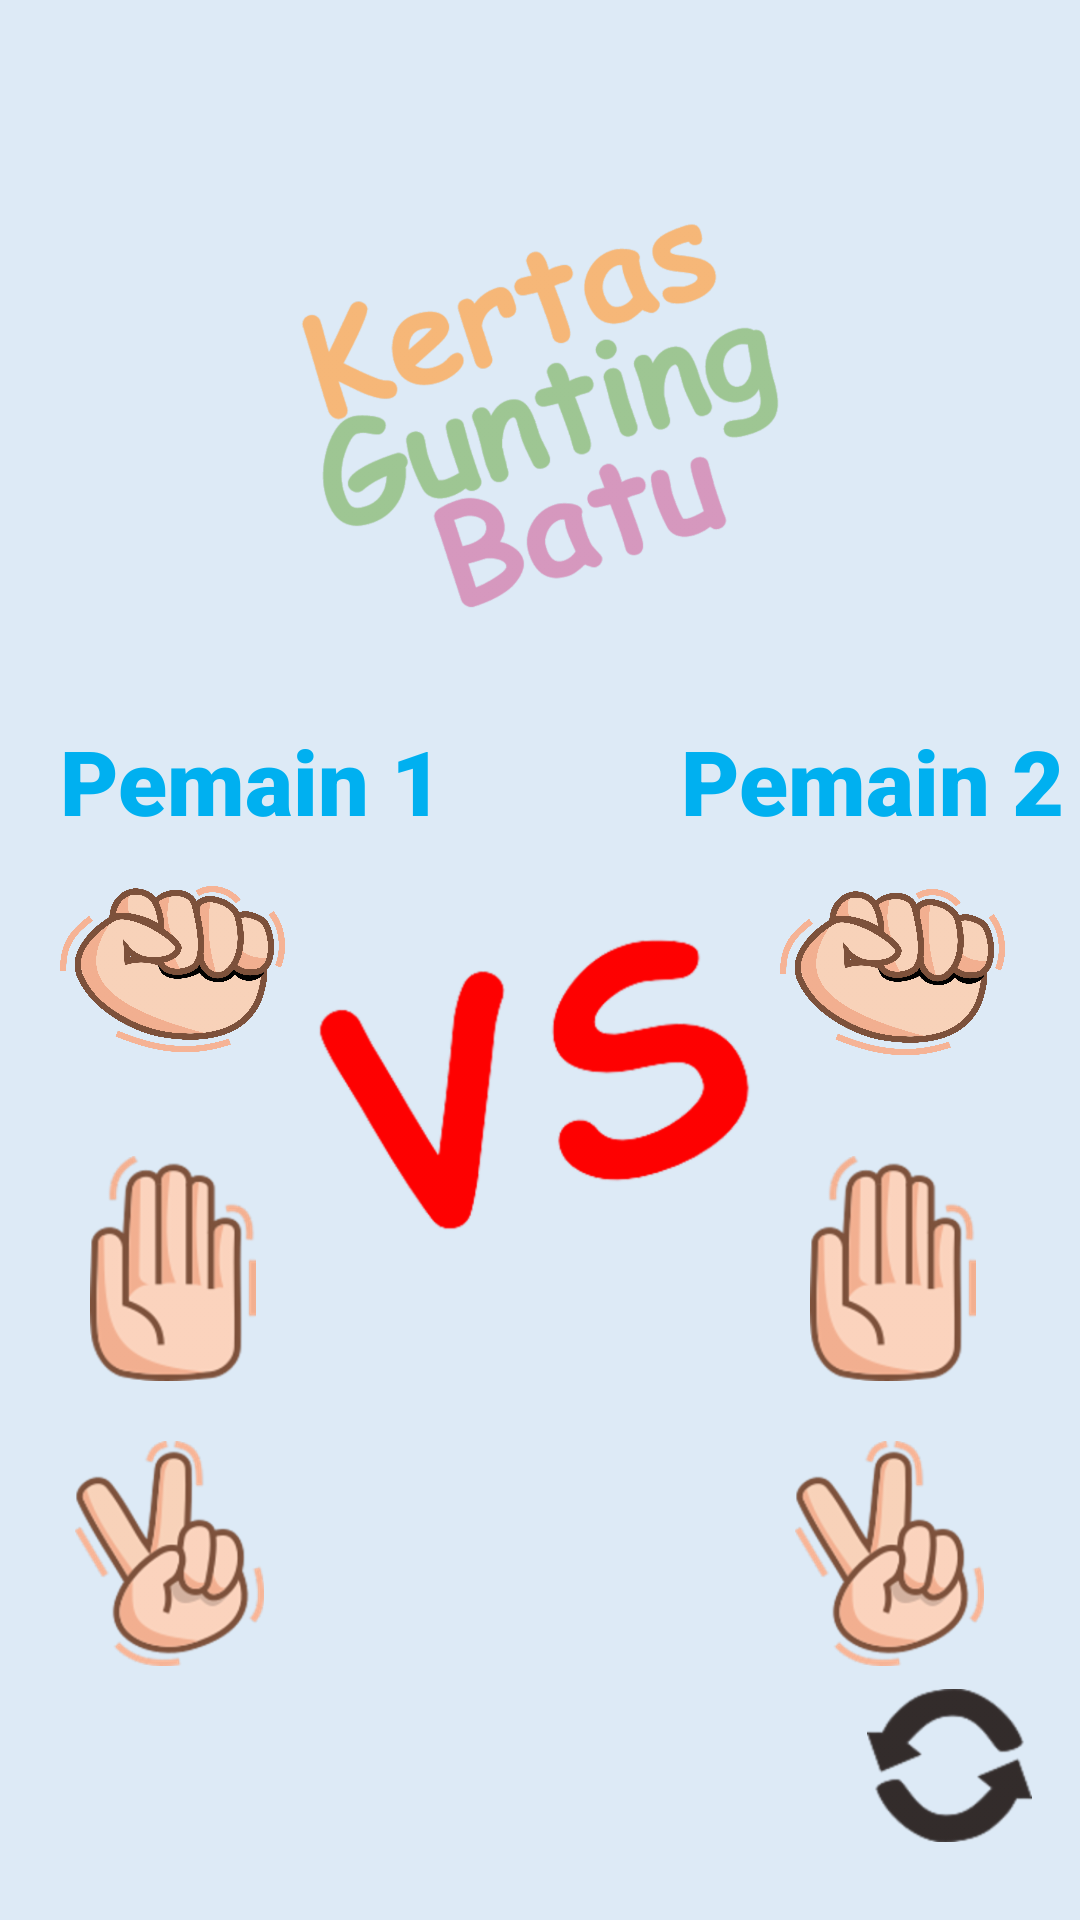

Screen size 1080 × 1920. Icon name, then its center in pixels as (x=x, y=y):
batu: (x=172, y=969), (x=892, y=972)
gunting: (x=169, y=1553), (x=889, y=1553)
kertas: (x=173, y=1268), (x=893, y=1268)
refresh: (x=949, y=1765)
